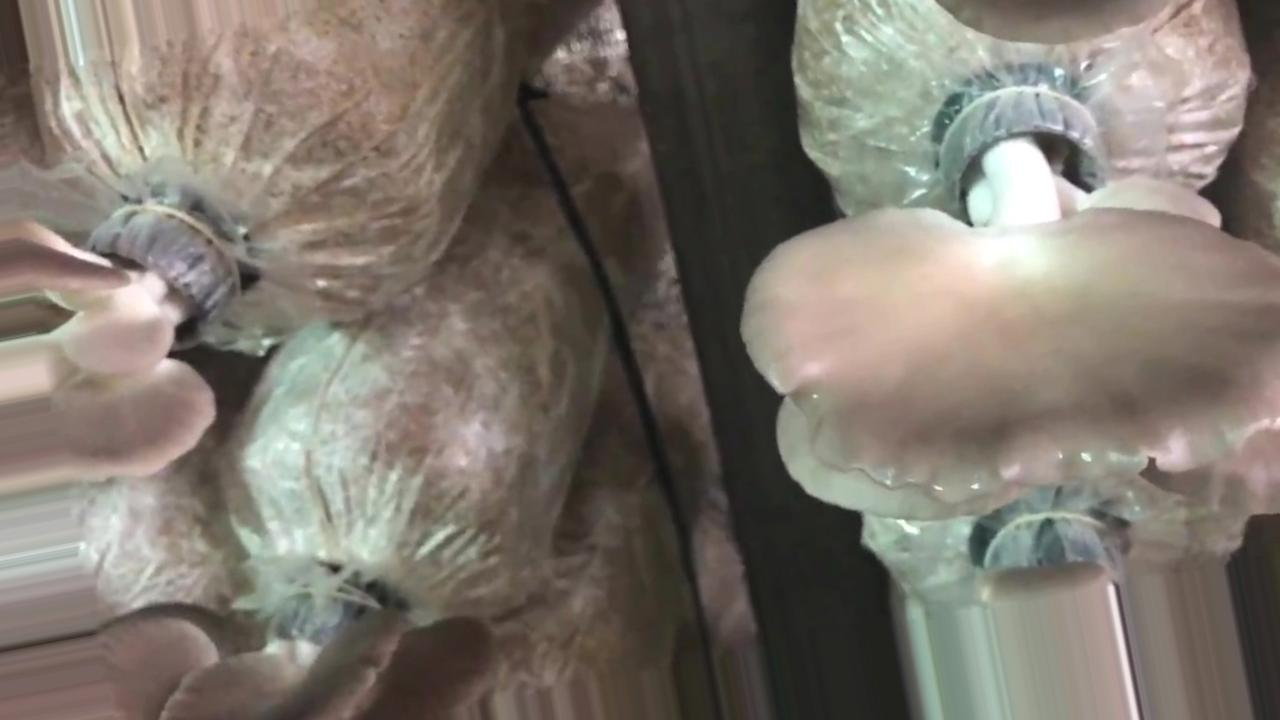nam: (732, 67, 1280, 503), (1, 189, 268, 489), (168, 591, 506, 720)
